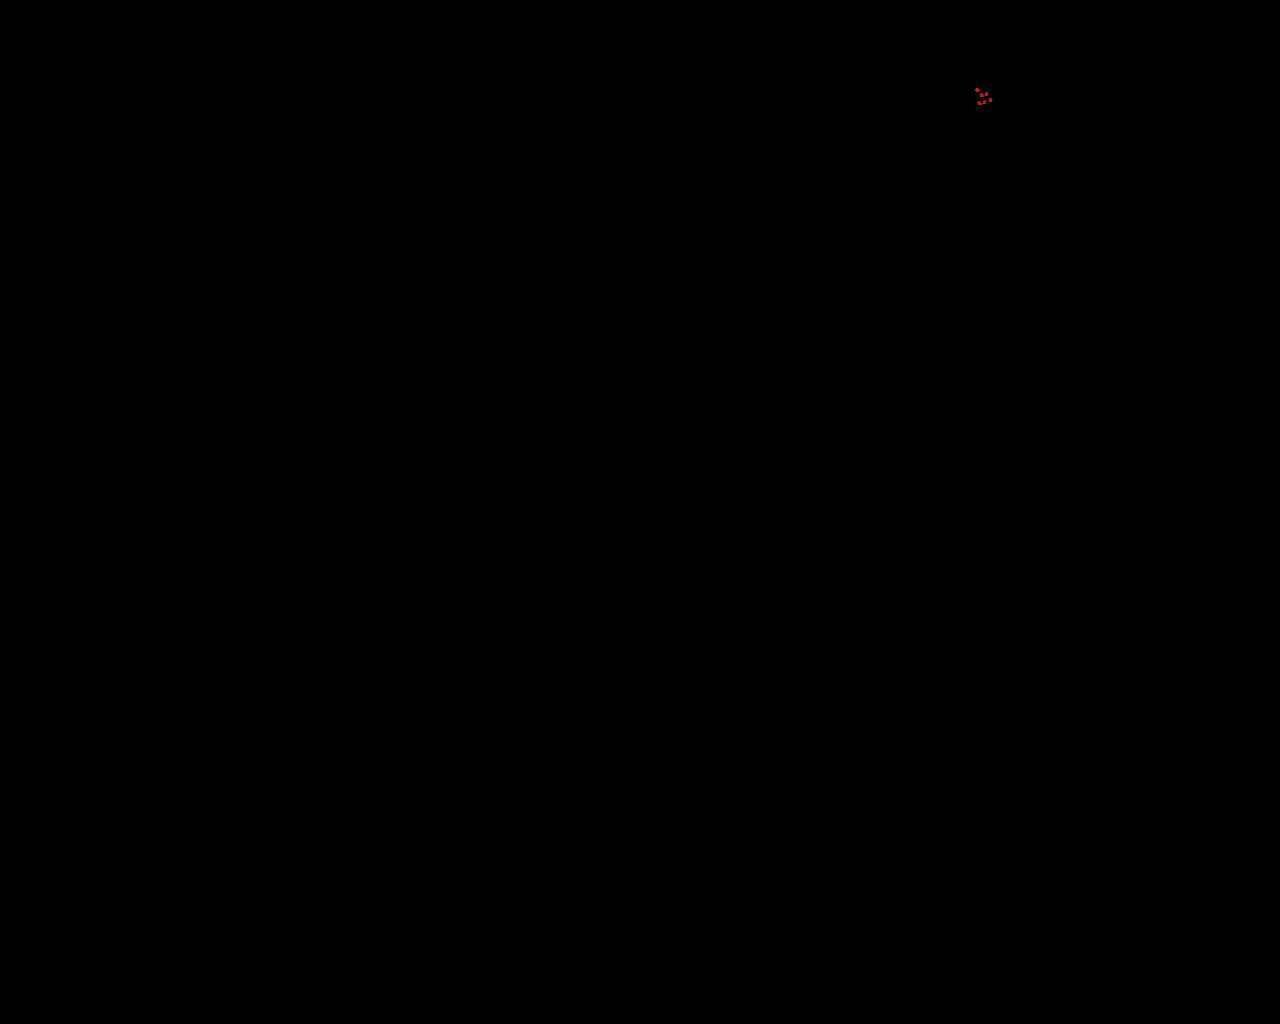Target: (975, 88, 979, 92), (985, 92, 988, 96), (980, 93, 983, 97), (983, 100, 986, 104), (977, 101, 981, 104), (990, 98, 992, 102)
